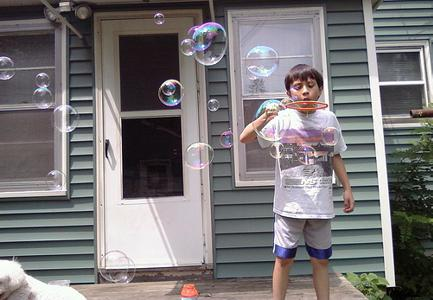person: (235, 64, 358, 297)
